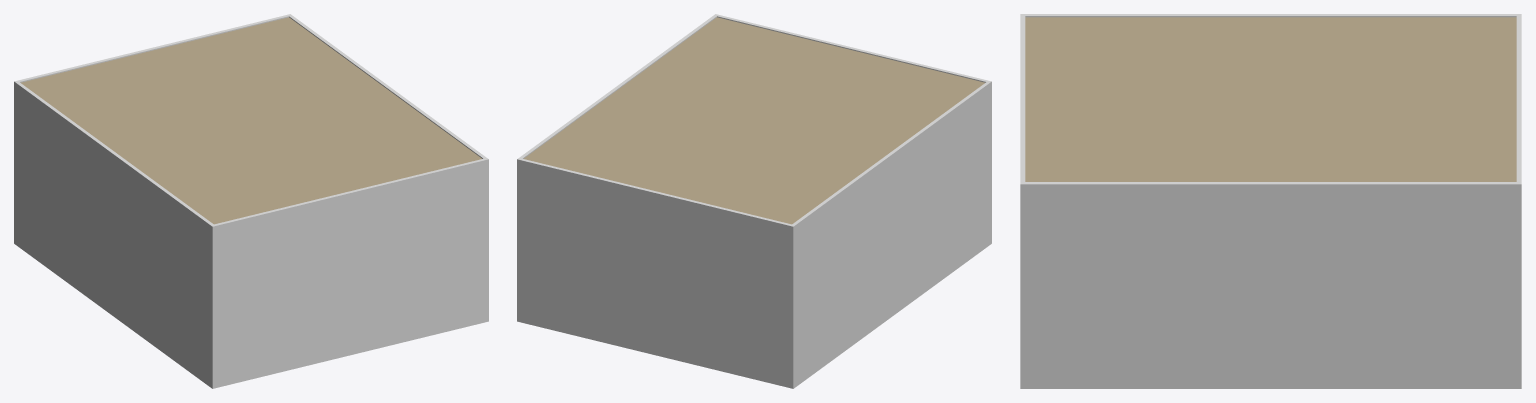
The model's file is ghostbedroomtrans.fbx.
The picture shows the model from 3 angles, left to right: view 1: azimuth 30°, elevation 25°; view 2: azimuth 150°, elevation 25°; view 3: azimuth 270°, elevation 25°; orthographic projection. The views are drawn at different scales.
Visible parts, largest first — view 1: Floor.001, Wall-South, Wall-East, Wall-North, Wall-West; view 2: Floor.001, Wall-North, Wall-East, Wall-South, Wall-West; view 3: Wall-West, Floor.001, Wall-North, Wall-South, Wall-East.
Part boxes in pixels (x1,y1,x2,y2): Floor.001: (20, 17, 481, 224); Wall-South: (210, 158, 488, 388); Wall-East: (16, 82, 213, 387); Wall-North: (14, 14, 291, 244); Wall-West: (289, 15, 486, 158); Floor.001: (524, 17, 985, 224); Wall-North: (517, 158, 795, 388); Wall-East: (792, 82, 989, 387); Wall-South: (714, 14, 991, 244); Wall-West: (519, 15, 716, 158); Wall-West: (1025, 182, 1516, 388); Floor.001: (1025, 17, 1516, 181); Wall-North: (1516, 14, 1521, 388); Wall-South: (1020, 14, 1025, 388); Wall-East: (1025, 14, 1516, 17).
Bounding box in the file's own units: 410 × 230 × 510.
